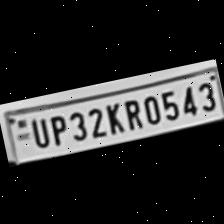0: (138, 90, 162, 126)
2: (82, 102, 106, 138)
3: (192, 76, 217, 113), (63, 106, 88, 142)
4: (175, 80, 199, 116)
5: (155, 86, 180, 122)
K: (99, 97, 125, 135)
P: (44, 110, 70, 146)
R: (118, 93, 144, 131)
U: (24, 113, 50, 149)
